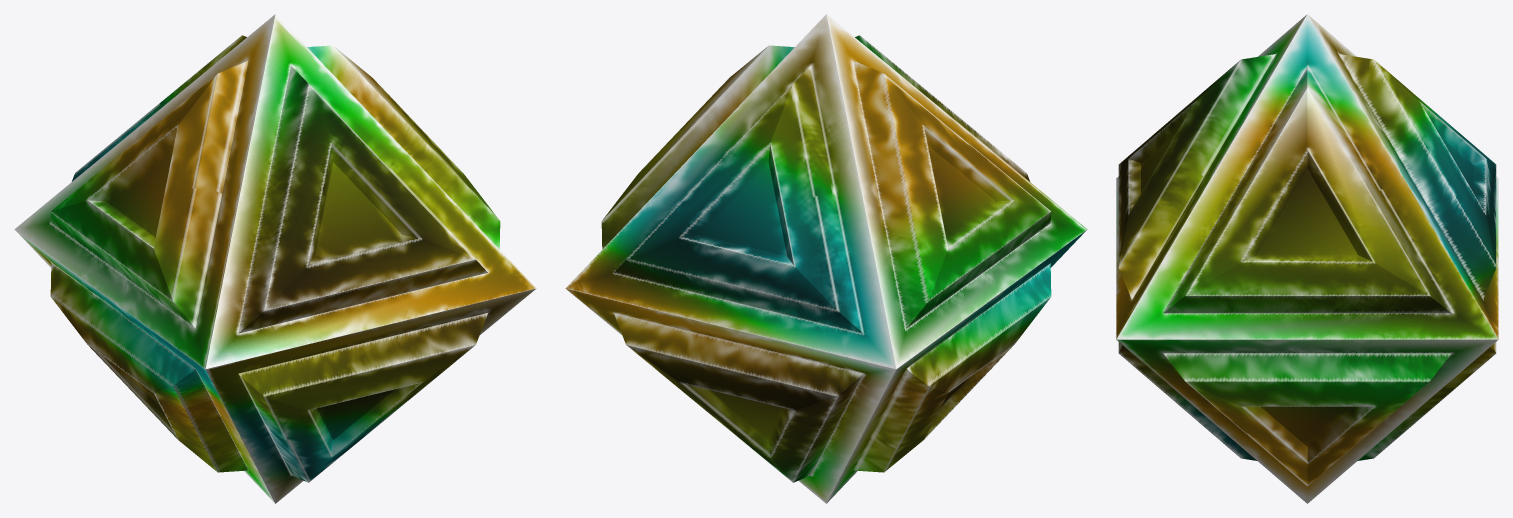
Rendered from Crystal05.FBX.
3 renders of one model, left to right at view 1: azimuth 30°, elevation 25°; view 2: azimuth 150°, elevation 25°; view 3: azimuth 270°, elevation 25°, orthographic.
Visible parts, largest first — view 1: Crystal05; view 2: Crystal05; view 3: Crystal05.
Part boxes in pixels (x1,y1,x2,y2): Crystal05: [14, 14, 536, 503]; Crystal05: [565, 14, 1087, 503]; Crystal05: [1116, 14, 1498, 503].
Bounding box in the file's own units: 18.56 × 26.24 × 18.56.
